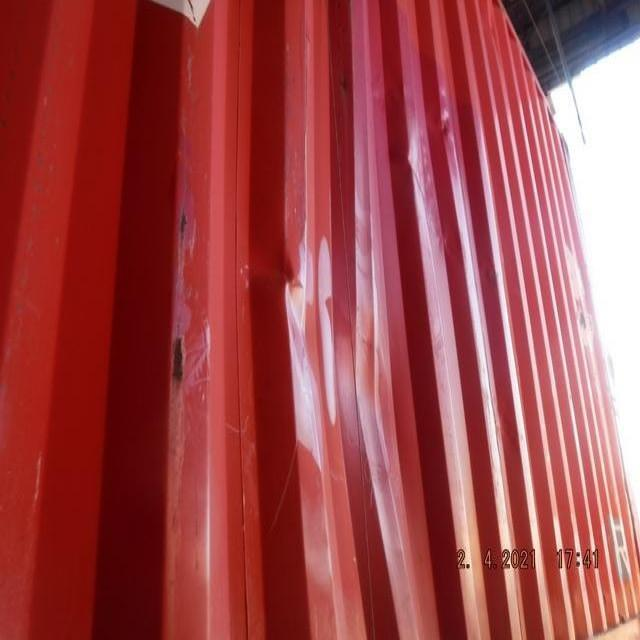Dent: (220, 191, 422, 535)
